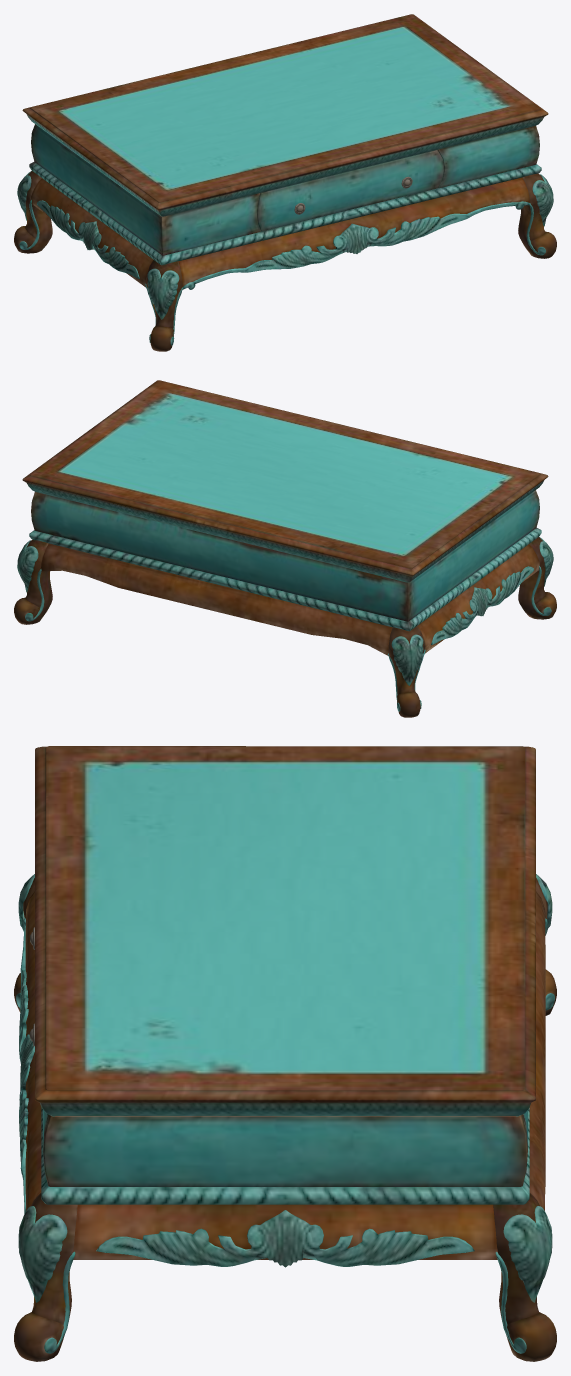
File: CoffeeTable_01.glb
3 renders of one model, top to bottom at view 1: azimuth 30°, elevation 25°; view 2: azimuth 150°, elevation 25°; view 3: azimuth 270°, elevation 25°, orthographic. The views are drawn at different scales.
Parts seen in each view (by area): view 1: CoffeeTable_01; view 2: CoffeeTable_01; view 3: CoffeeTable_01.
Part boxes in pixels (x1=…): CoffeeTable_01: x1=14, y1=14, x2=556, y2=351; CoffeeTable_01: x1=14, y1=380, x2=556, y2=717; CoffeeTable_01: x1=14, y1=746, x2=556, y2=1361.
Bounding box in the file's own units: 1.54 × 0.5232 × 0.9728.
Materials: 1 (1 with a texture image).
